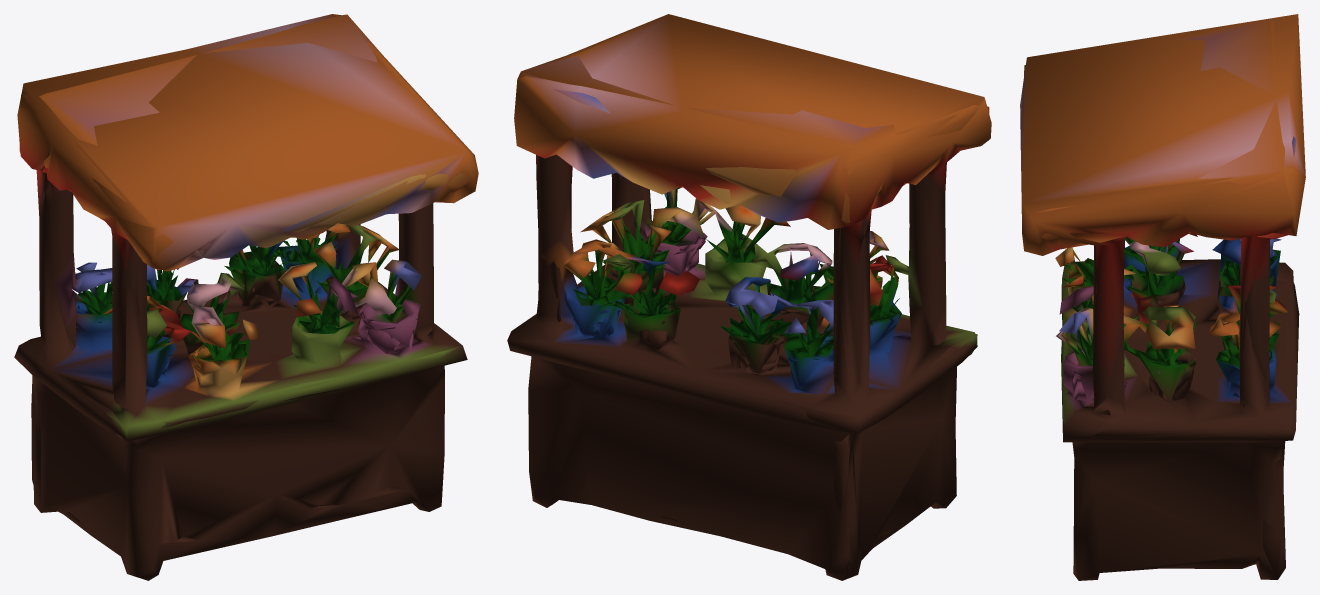
File: gen3d-flower-stall-lod0.glb
3 views of the same model, side by side, from view 1: azimuth 30°, elevation 25°; view 2: azimuth 150°, elevation 25°; view 3: azimuth 270°, elevation 25° (orthographic). The views are drawn at different scales.
Parts seen in each view (by area): view 1: part_0; view 2: part_0; view 3: part_0.
Boxes of the visible parts, x1,y1,x2,y2 form: part_0: (14, 14, 478, 580); part_0: (507, 14, 991, 580); part_0: (1020, 14, 1305, 580).
Bounding box in the file's own units: 0.8571 × 1 × 0.6181.
